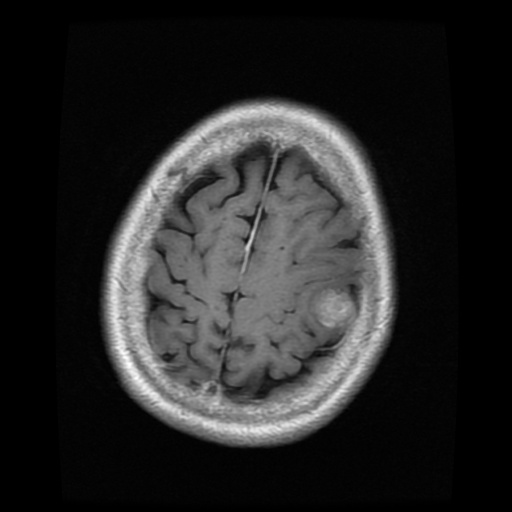meningioma: (312, 288, 356, 325)
